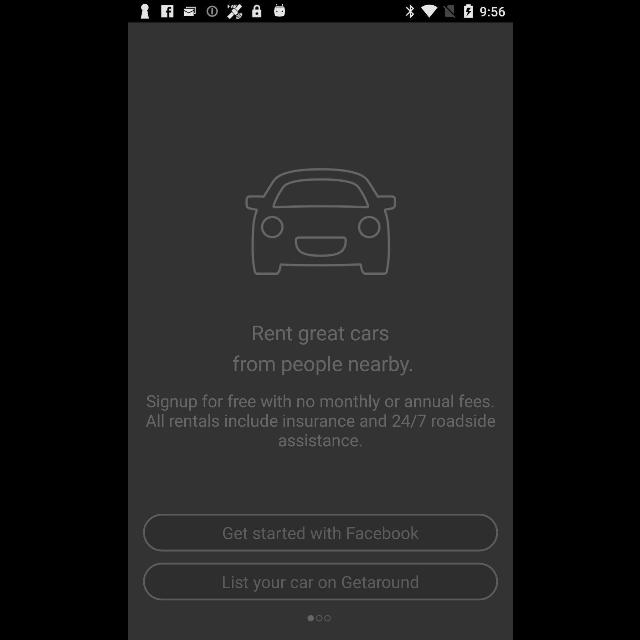image: (244, 167, 396, 276)
pageindicator: (306, 614, 330, 622)
text: (144, 394, 496, 448), (232, 325, 412, 377)
textbutton: (141, 563, 497, 601), (142, 514, 498, 552)
uppertaskbar: (128, 1, 512, 23)
